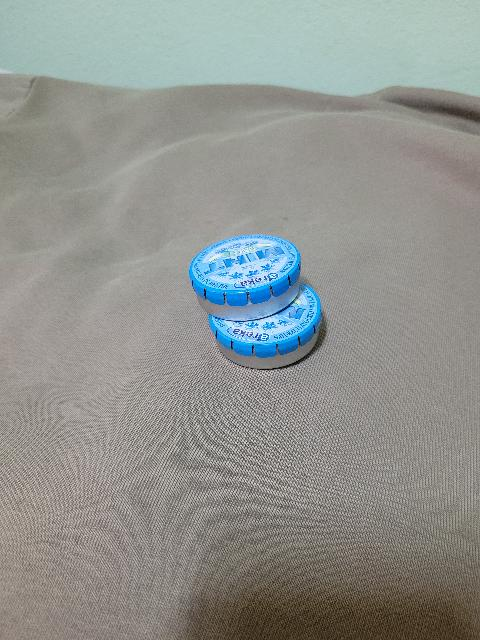Metal: (210, 281, 328, 372), (192, 230, 303, 316)
